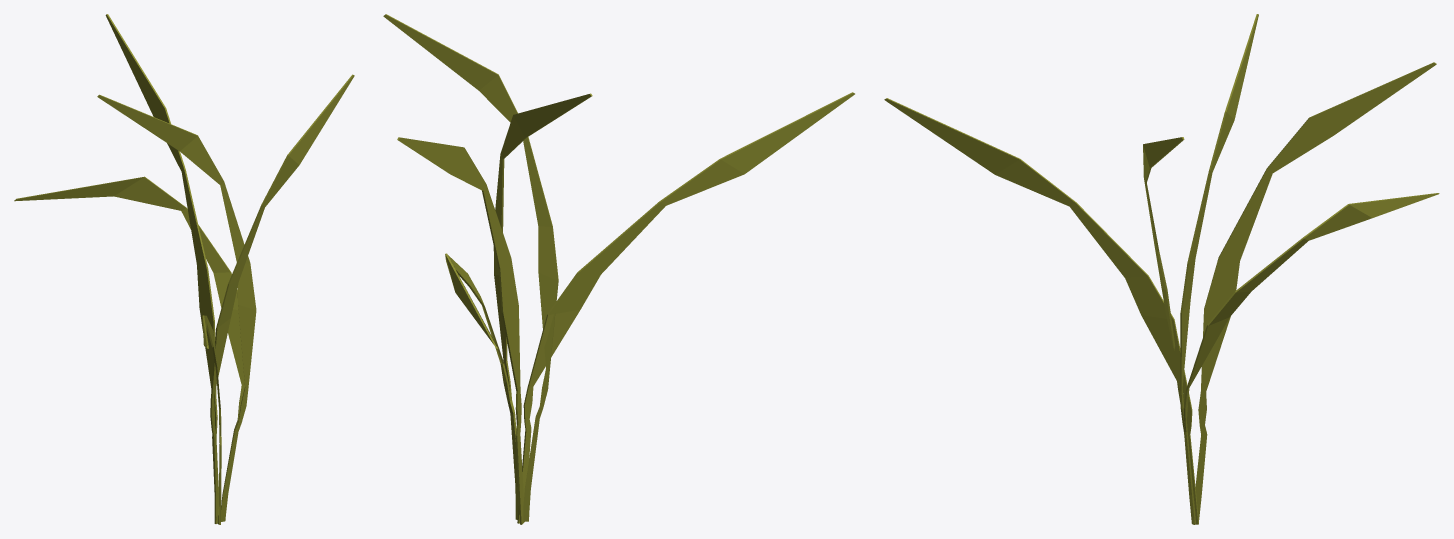
The picture shows the model from 3 angles, left to right: view 1: azimuth 30°, elevation 25°; view 2: azimuth 150°, elevation 25°; view 3: azimuth 270°, elevation 25°; orthographic projection. The views are drawn at different scales.
Visible parts, largest first — view 1: gazon; view 2: gazon; view 3: gazon.
Part boxes in pixels (box(x1,y1,x2,y2)): gazon: box(14, 14, 354, 524); gazon: box(383, 14, 854, 524); gazon: box(884, 14, 1439, 524).
Size of the model in its own units: 56.86 by 81.65 by 88.91.
